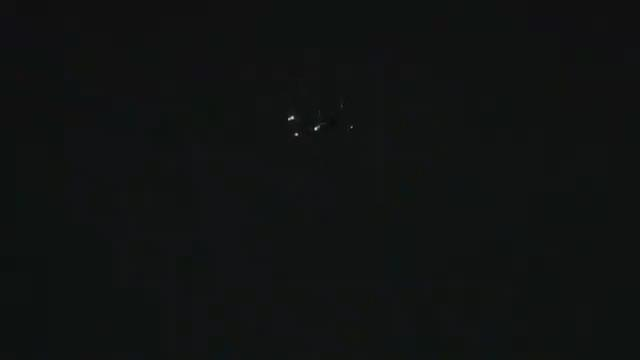Plane: (264, 107, 317, 149)
